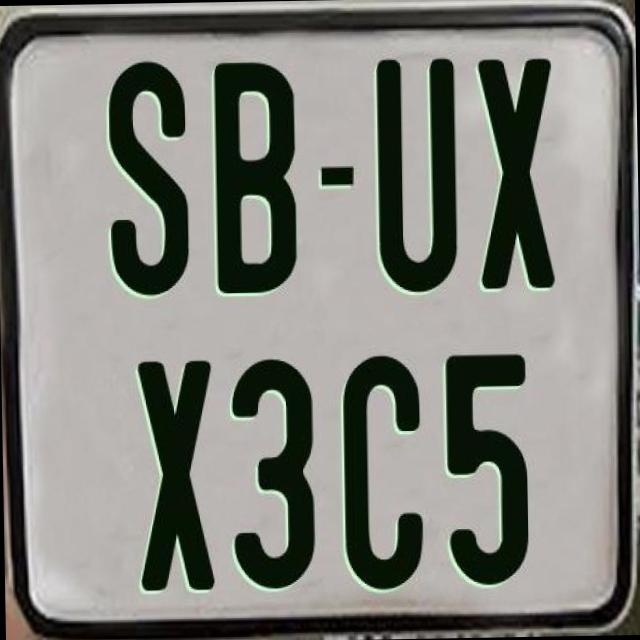3: (227, 359, 317, 592)
5: (440, 348, 526, 582)
B: (212, 60, 300, 296)
C: (341, 356, 429, 600)
S: (105, 58, 186, 302)
U: (371, 56, 453, 290)
X: (476, 55, 560, 293), (138, 360, 222, 595)
